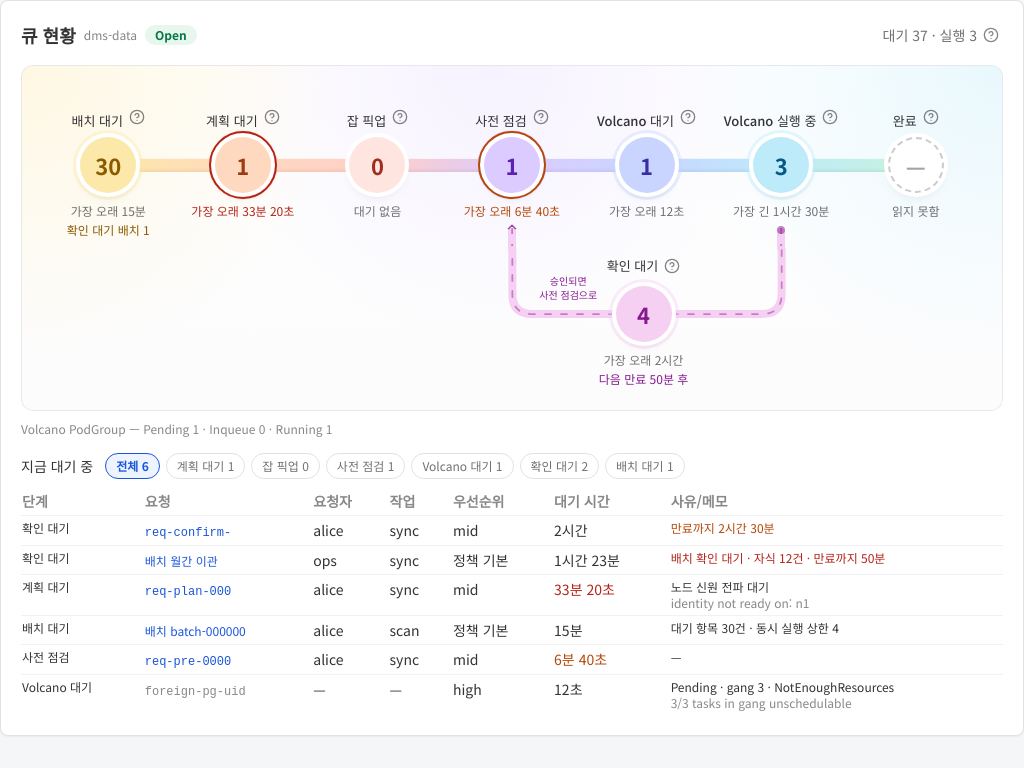
it: 단계 필터: 칩이 그 단계 행만 남기고 aria-pressed 로 선택을 알린다
Click the button "확인 대기 2": (559, 466) x1=520 y1=453 x2=599 y2=479
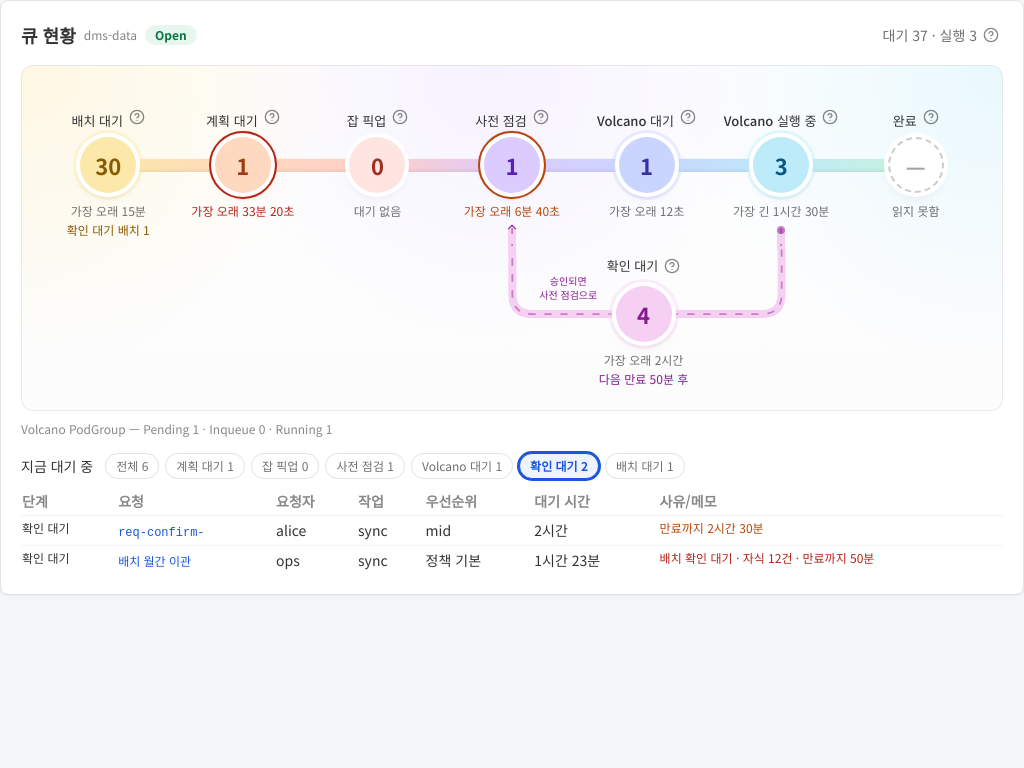
Expected: the number of rows is 3, x1=21 y1=487 x2=1003 y2=516; x1=21 y1=516 x2=1003 y2=546; x1=21 y1=546 x2=1003 y2=574
Result: the text "노드 신원 전파 대기" is gone
Click the button "잡 픽업 0": (285, 466) x1=251 y1=453 x2=319 y2=479
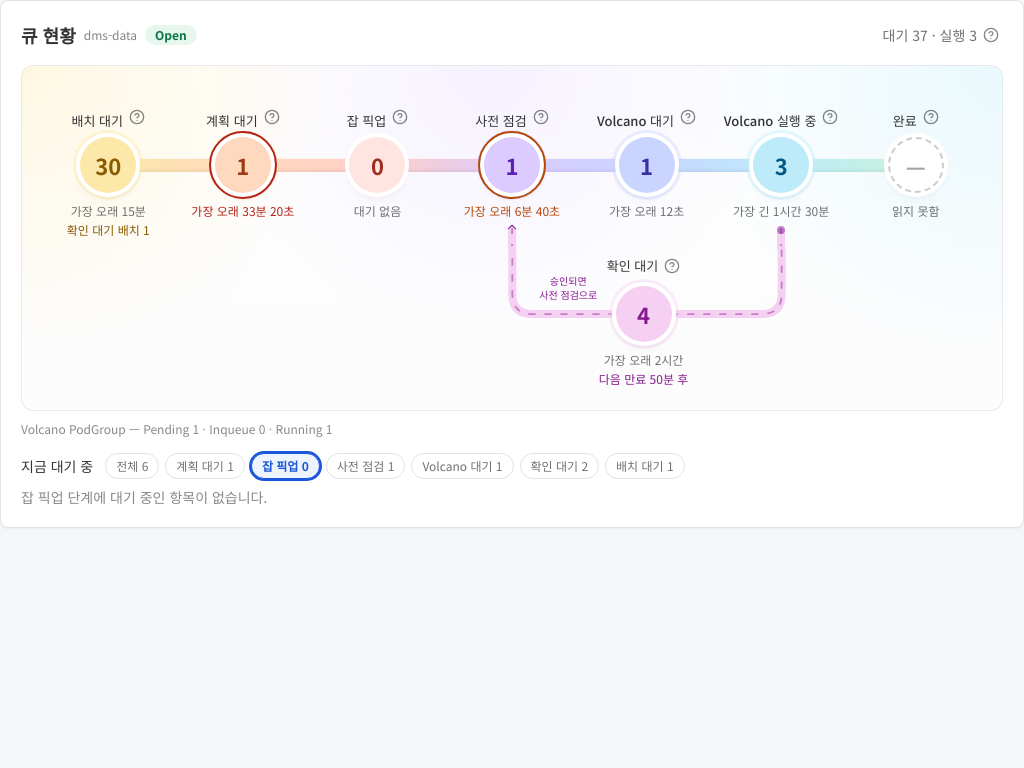
Result: the text "잡 픽업 단계에 대기 중인 항목이 없습니다." is shown at x1=21 y1=487 x2=267 y2=507
Click the button "전체 6": (132, 466) x1=105 y1=453 x2=159 y2=479
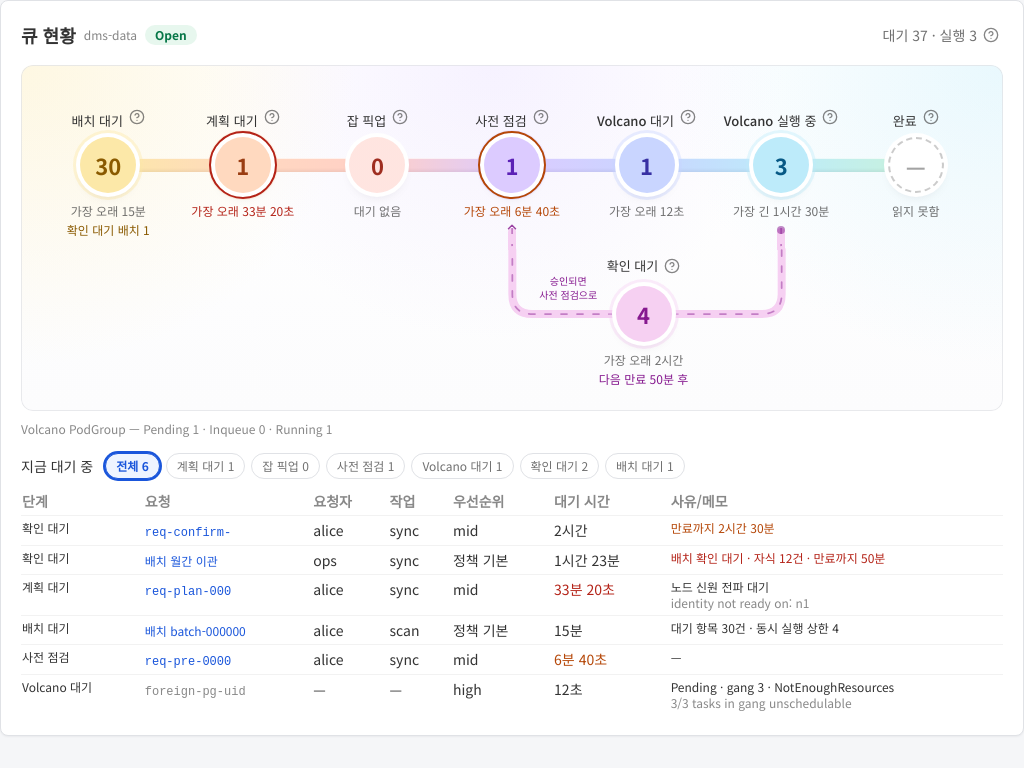
Result: the number of rows is 7
